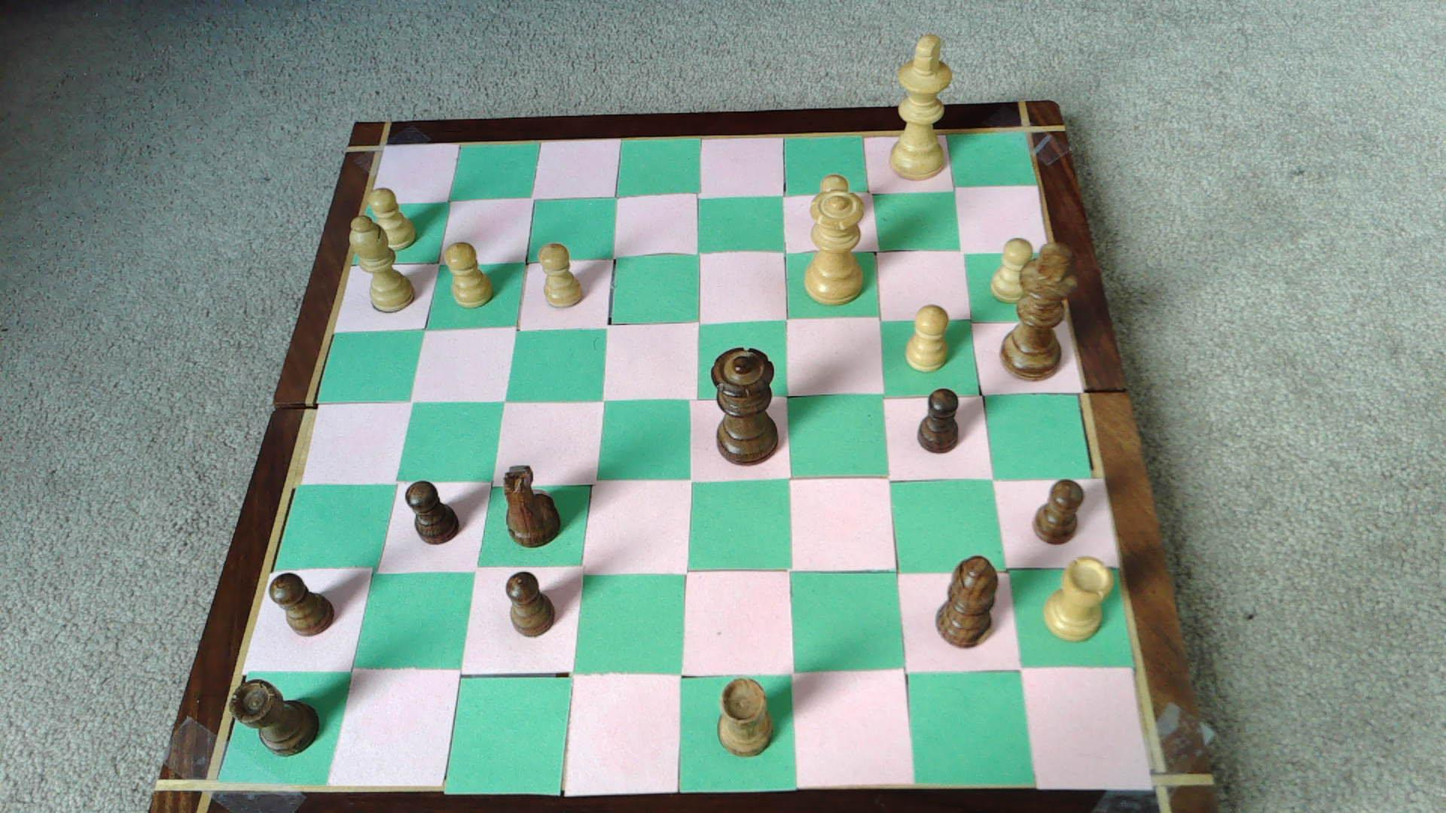dark_piece: (1001, 246, 1075, 380), (712, 347, 778, 463), (231, 680, 319, 754), (937, 555, 997, 647), (502, 465, 559, 547), (718, 676, 773, 755), (270, 573, 334, 635), (406, 481, 459, 543), (1032, 480, 1083, 544), (506, 572, 555, 636), (918, 388, 959, 452)
white_piece: (889, 35, 953, 180), (805, 194, 865, 304), (349, 213, 415, 312), (1043, 557, 1112, 641), (365, 188, 417, 250), (445, 242, 494, 307), (814, 174, 856, 245), (539, 242, 584, 307), (906, 305, 949, 371), (990, 238, 1032, 303)
